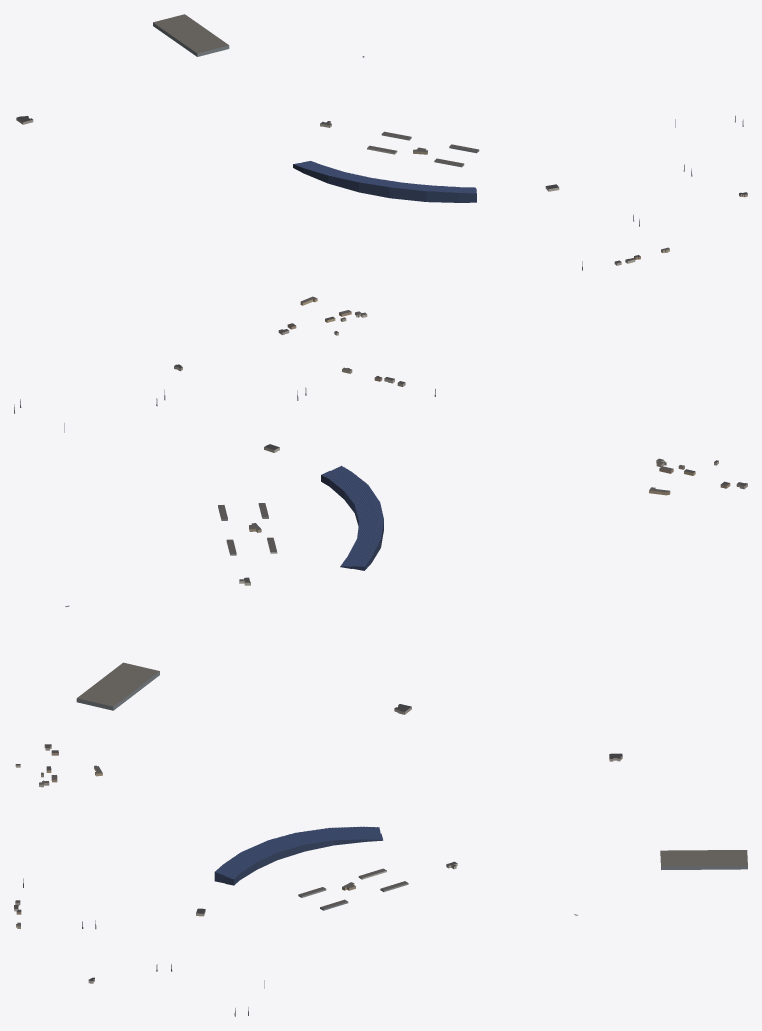
Rendered from scenery.glb.
3 views of the same model, one above another, from view 1: azimuth 30°, elevation 25°; view 2: azimuth 150°, elevation 25°; view 3: azimuth 270°, elevation 25° (orthographic). The views are drawn at different scales.
Visible parts, largest first — view 1: chunk_14_15, chunk_14_12; view 2: chunk_14_15, chunk_14_12; view 3: chunk_14_15, chunk_14_12, chunk_15_14.
Part boxes in pixels (x1=…): chunk_14_15: x1=293, y1=161, x2=476, y2=202; chunk_14_12: x1=153, y1=14, x2=229, y2=56; chunk_14_15: x1=321, y1=465, x2=383, y2=570; chunk_14_12: x1=76, y1=662, x2=159, y2=710; chunk_14_15: x1=214, y1=826, x2=383, y2=885; chunk_14_12: x1=660, y1=850, x2=747, y2=869; chunk_15_14: x1=320, y1=868, x2=408, y2=910.
Bounding box in the file's own units: 1685 × 41.58 × 1910.
